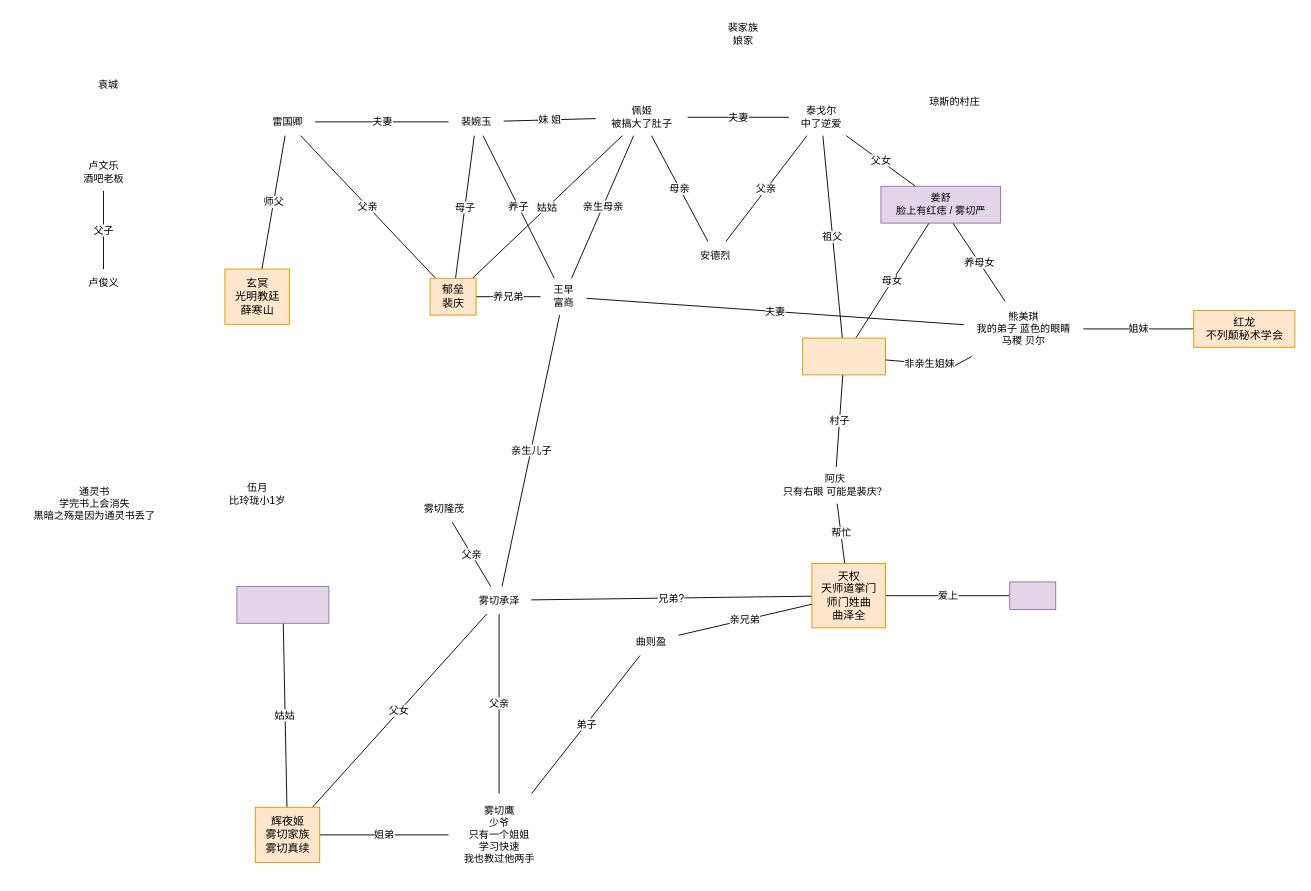
Image size: 1311x891. Some labels were removed from this diagram. The shapes that lost their labels are listed below. From the top down, each one's centre as x and y in pixels, then its label:
the point at 844,356: 玲珑 紫薇殿 姜链
the point at 282,604: 雾切严 学了外族秘术
the point at 1032,595: 姜舒
